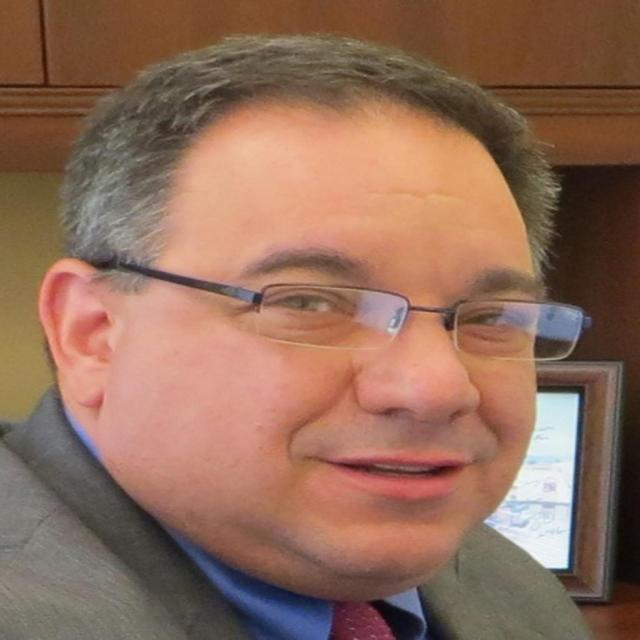Face: (81, 89, 554, 608)
